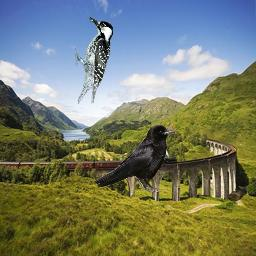Crow: (93, 124, 176, 192)
Woodpecker: (75, 16, 113, 104)
